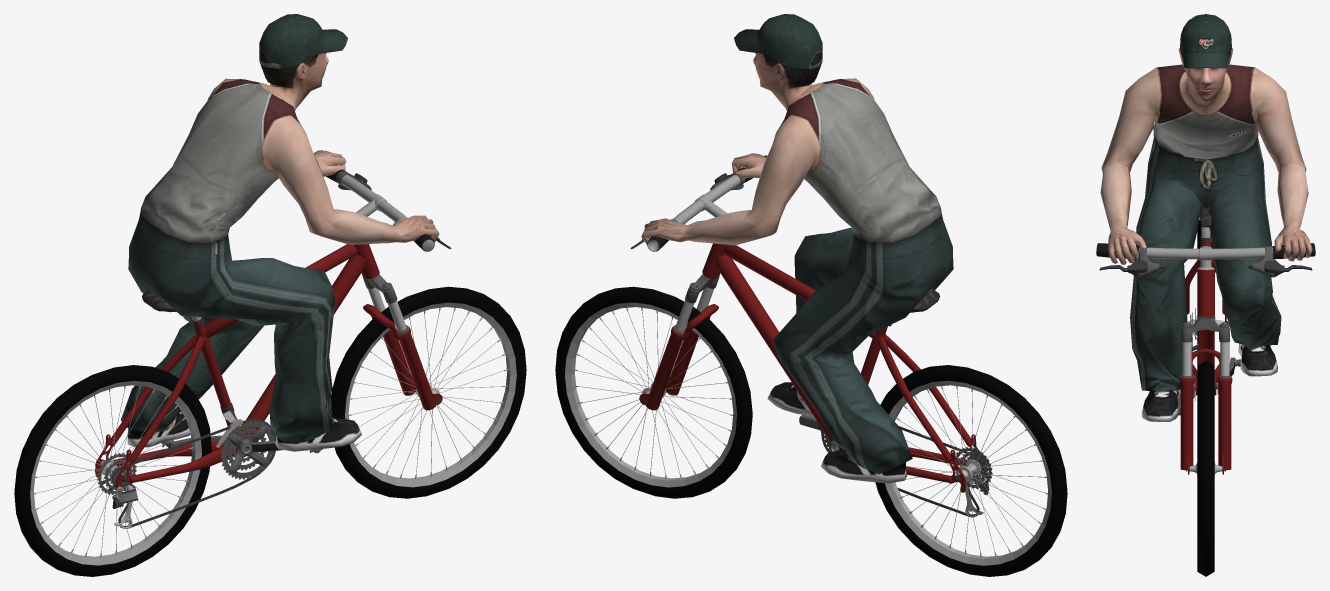
Rendered from sm_bike_web.fbx.
3 renders of one model, left to right at view 1: azimuth 30°, elevation 25°; view 2: azimuth 150°, elevation 25°; view 3: azimuth 270°, elevation 25°, orthographic. The views are drawn at different scales.
Parts seen in each view (by area): view 1: sm_bike_web; view 2: sm_bike_web; view 3: sm_bike_web.
Part boxes in pixels (bbox=[...]): sm_bike_web: bbox=[14, 14, 526, 576]; sm_bike_web: bbox=[555, 14, 1067, 576]; sm_bike_web: bbox=[1096, 14, 1315, 576].
Size of the model in its own units: 1.81 by 1.73 by 0.7069.
Materials: 2 (2 with a texture image).
